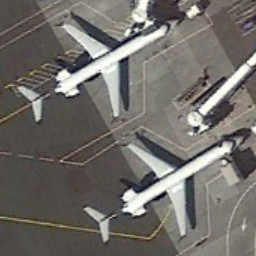Airplane: (74, 130, 250, 249), (10, 9, 183, 126)
